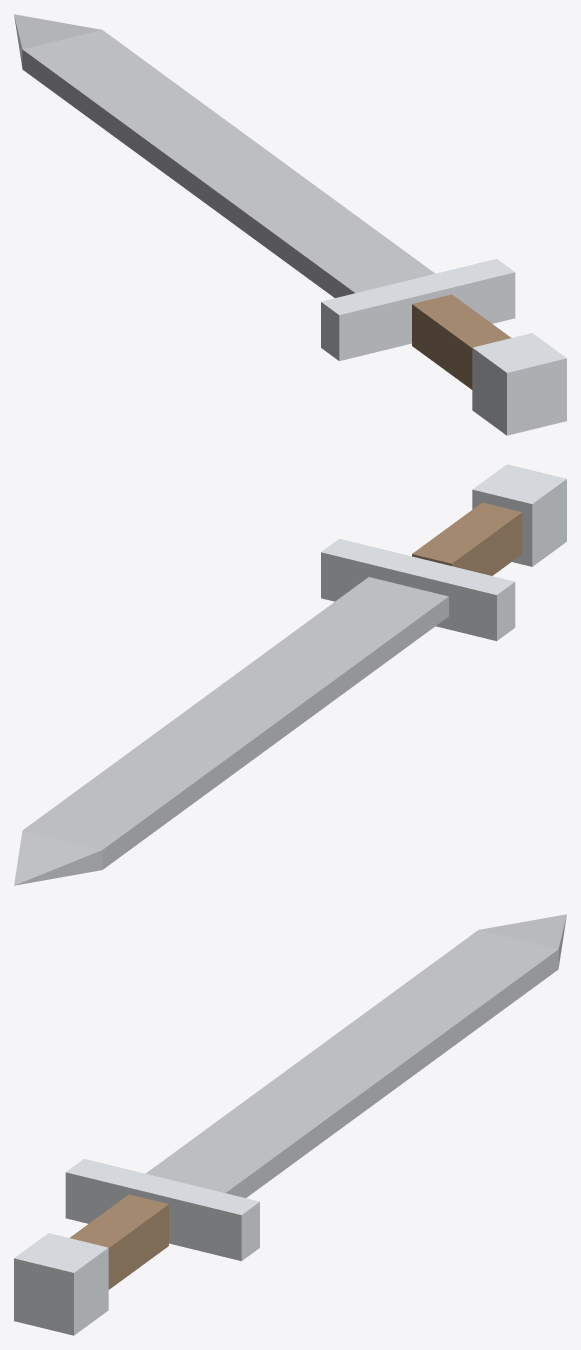
File: sword_01.glb
3 views of the same model, one above another, from view 1: azimuth 30°, elevation 25°; view 2: azimuth 150°, elevation 25°; view 3: azimuth 330°, elevation 25° (orthographic).
Parts seen in each view (by area): view 1: GEO-sword_01; view 2: GEO-sword_01; view 3: GEO-sword_01.
Boxes of the visible parts, x1=… form: GEO-sword_01: x1=14, y1=14, x2=566, y2=435; GEO-sword_01: x1=14, y1=464, x2=566, y2=885; GEO-sword_01: x1=14, y1=914, x2=566, y2=1335.
Size of the model in its own units: 0.22 by 0.075 by 1.13.
